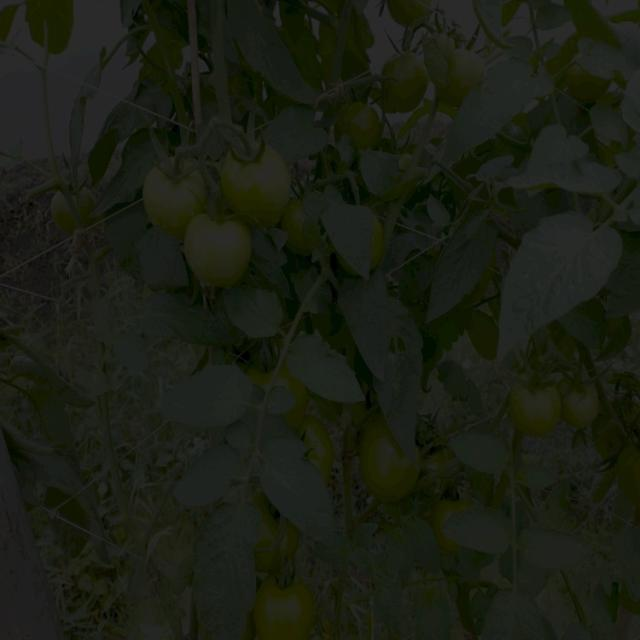tomato: (357, 421, 426, 502), (187, 208, 251, 286), (231, 151, 291, 224), (255, 574, 320, 640), (149, 164, 206, 227), (556, 360, 599, 428), (516, 378, 563, 433), (382, 50, 426, 108), (341, 98, 385, 154), (441, 50, 490, 100), (386, 1, 446, 31), (285, 205, 313, 258), (307, 421, 334, 475), (264, 521, 298, 561), (253, 364, 295, 396), (433, 486, 471, 521), (574, 67, 614, 95), (418, 34, 452, 64), (371, 216, 389, 271), (57, 186, 80, 229), (624, 442, 640, 496)
